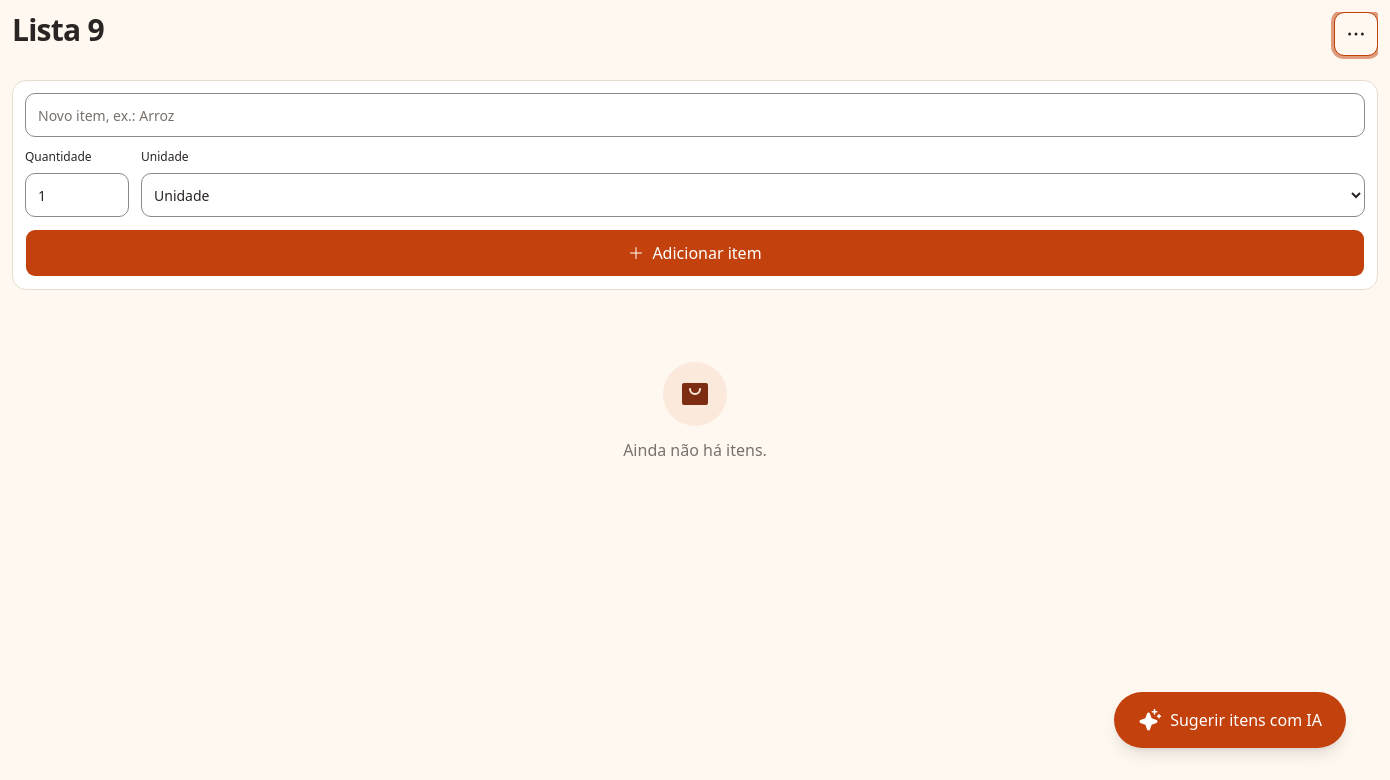
Test: ShopperListDetailView › closes and reopens the list
Press Enter
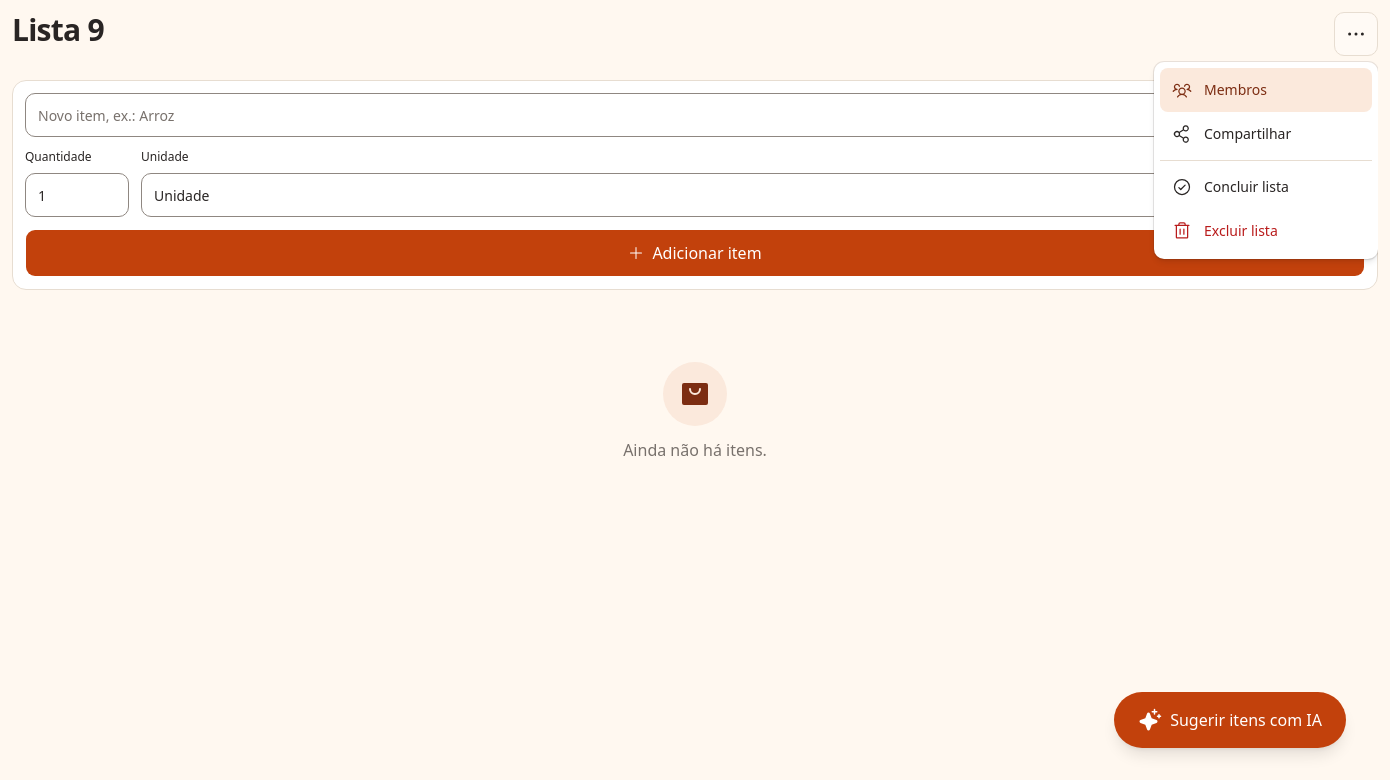
Click the menu item "Concluir lista".
click(1230, 187)  # box x1=1172 y1=177 x2=1289 y2=197
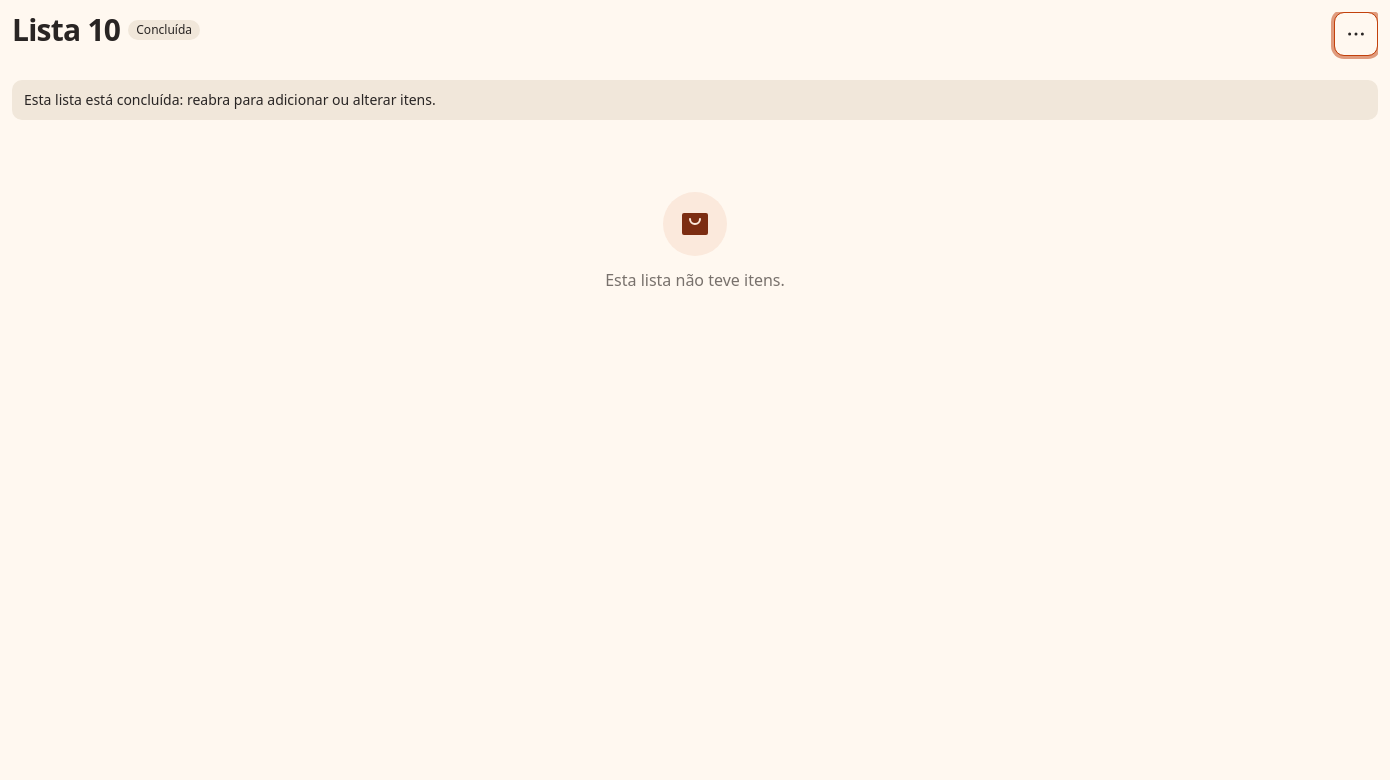
Press Enter
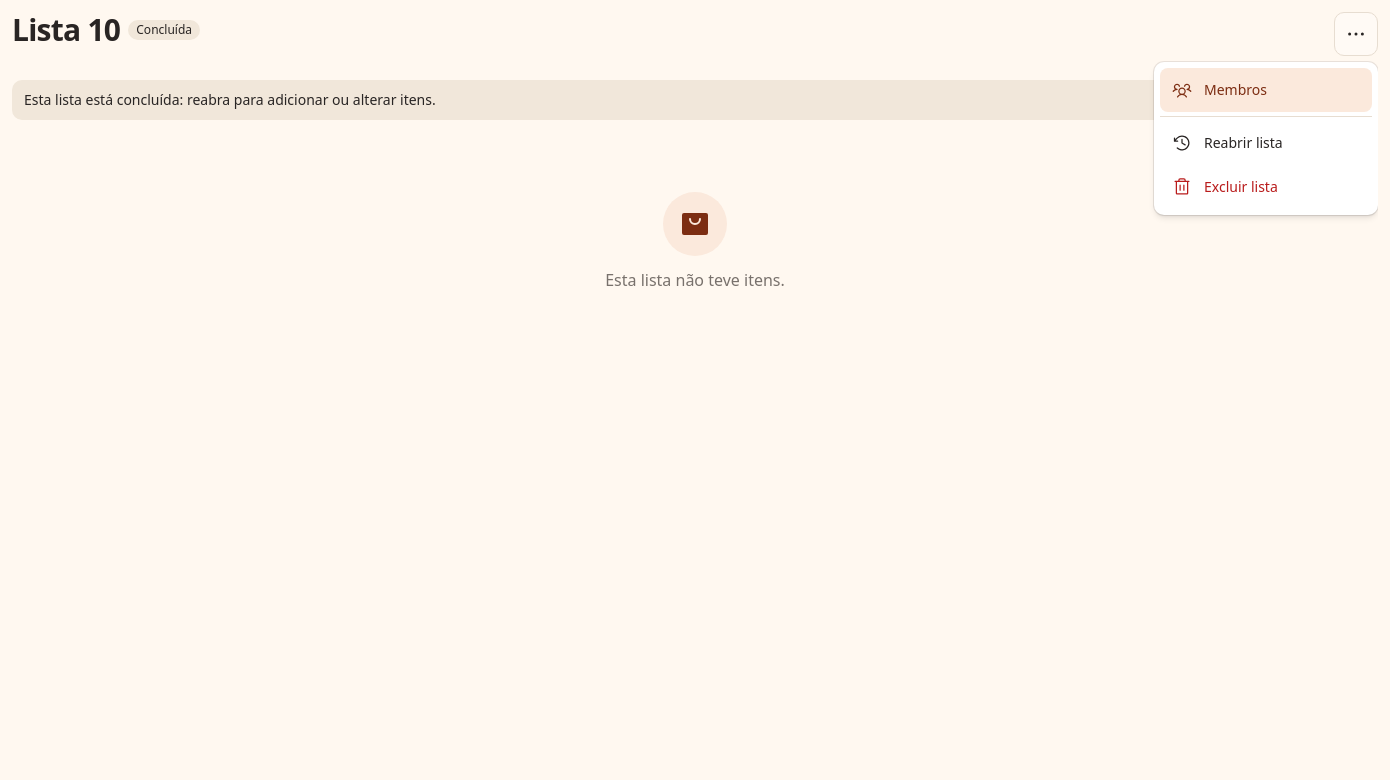
expect the menu item "Reabrir lista" is shown: met, box x1=1172 y1=133 x2=1283 y2=153
